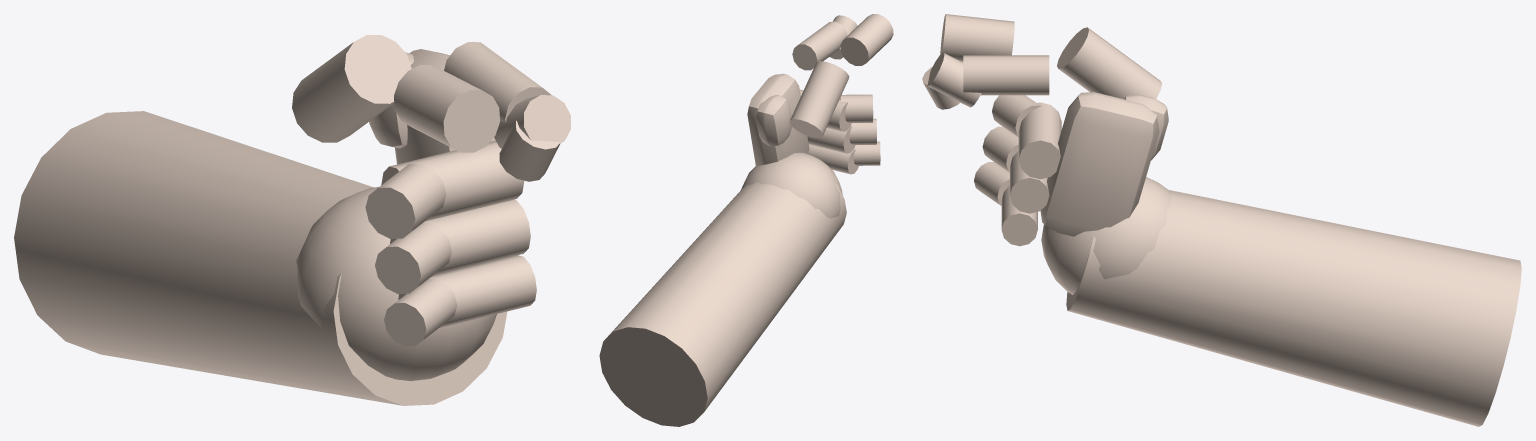
Rendered from viewmodel_hand.glb.
3 views of the same model, side by side, from view 1: azimuth 30°, elevation 25°; view 2: azimuth 150°, elevation 25°; view 3: azimuth 270°, elevation 25° (orthographic). The views are drawn at different scales.
Visible parts, largest first — view 1: viewmodel_hand; view 2: viewmodel_hand; view 3: viewmodel_hand.
Boxes of the visible parts, left/top/right/bottom form: viewmodel_hand: left=14, top=35, right=570, bottom=405; viewmodel_hand: left=599, top=14, right=893, bottom=426; viewmodel_hand: left=922, top=14, right=1521, bottom=426.
Bounding box in the file's own units: 0.0827 × 0.2079 × 0.2929.
